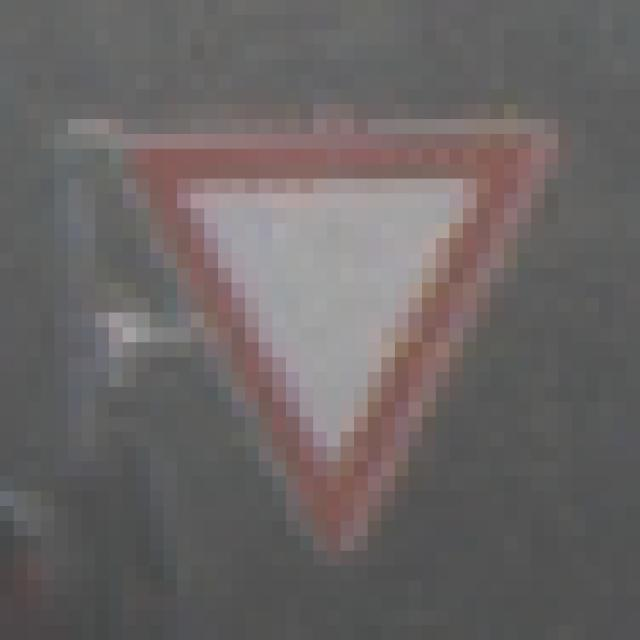Give Way: (83, 76, 573, 567)
